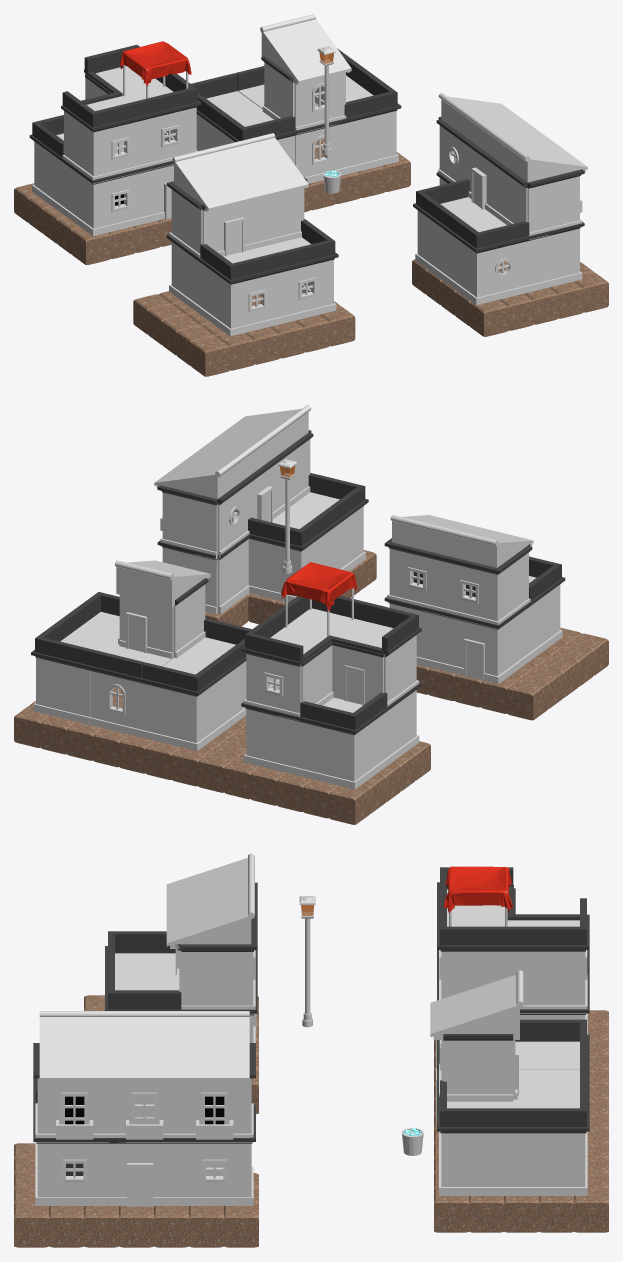
File: BridgeLevel.fbx
3 renders of one model, top to bottom at view 1: azimuth 30°, elevation 25°; view 2: azimuth 150°, elevation 25°; view 3: azimuth 270°, elevation 25°, orthographic. The views are drawn at different scales.
Visible parts, largest first — view 1: 12_UF_Corner.083, 12_UF_Corner.074, 12_UF_Corner.087, 12_UF_Corner.091, 14_R_Center.094, 14_R_Center.080, 14_R_Center.077, 12_UF_Corner.075, 12_UF_Corner.094, 12_UF_Corner.079, 12_UF_Corner.080, 12_UF_Corner.090 (+66 smaller); view 2: 12_UF_Corner.096, 12_UF_Corner.092, 12_UF_Corner.078, 12_UF_Corner.073, 12_UF_Corner.086, 12_UF_Corner.084, 12_UF_Corner.095, 12_UF_Corner.089, 12_UF_Corner.081, 12_UF_Corner.077, 12_UF_Corner.085, 02_GF_Wall.110 (+68 smaller); view 3: 12_UF_Corner.094, 12_UF_Corner.095, 12_UF_Corner.077, 12_UF_Corner.079, 12_UF_Corner.082, 14_R_Center.084, 14_R_Center.087, 14_R_Center.090, 02_GF_Wall.107, 12_UF_Corner.085, 02_GF_Wall.099, 02_GF_Wall.098 (+37 smaller).
Part boxes in pixels (left/top/right/bottom): 12_UF_Corner.083: left=444, top=226, right=530, bottom=305; 12_UF_Corner.074: left=198, top=258, right=283, bottom=336; 12_UF_Corner.087: left=61, top=158, right=146, bottom=236; 12_UF_Corner.091: left=61, top=105, right=146, bottom=183; 14_R_Center.094: left=260, top=14, right=351, bottom=83; 14_R_Center.080: left=172, top=145, right=258, bottom=210; 14_R_Center.077: left=223, top=133, right=308, bottom=198; 12_UF_Corner.075: left=282, top=252, right=338, bottom=323; 12_UF_Corner.094: left=345, top=103, right=401, bottom=174; 12_UF_Corner.079: left=528, top=222, right=584, bottom=292; 12_UF_Corner.080: left=527, top=169, right=584, bottom=239; 12_UF_Corner.090: left=145, top=100, right=201, bottom=170; 12_UF_Corner.096: left=141, top=668, right=231, bottom=750; 12_UF_Corner.092: left=298, top=707, right=388, bottom=789; 12_UF_Corner.078: left=442, top=546, right=532, bottom=629; 12_UF_Corner.073: left=442, top=601, right=532, bottom=683; 12_UF_Corner.086: left=301, top=635, right=383, bottom=705; 12_UF_Corner.084: left=248, top=523, right=335, bottom=602; 12_UF_Corner.095: left=31, top=650, right=90, bottom=724; 12_UF_Corner.089: left=241, top=687, right=300, bottom=775; 12_UF_Corner.081: left=157, top=485, right=217, bottom=559; 12_UF_Corner.077: left=384, top=538, right=443, bottom=615; 12_UF_Corner.085: left=241, top=646, right=301, bottom=720; 02_GF_Wall.110: left=88, top=665, right=142, bottom=737; 12_UF_Corner.094: left=437, top=1096, right=513, bottom=1195; 12_UF_Corner.095: left=513, top=1096, right=589, bottom=1195; 12_UF_Corner.077: left=181, top=914, right=257, bottom=1014; 12_UF_Corner.079: left=33, top=1106, right=109, bottom=1205; 12_UF_Corner.082: left=179, top=1106, right=255, bottom=1205; 14_R_Center.084: left=39, top=1011, right=109, bottom=1080; 14_R_Center.087: left=109, top=1011, right=179, bottom=1080; 14_R_Center.090: left=179, top=1011, right=249, bottom=1080; 02_GF_Wall.107: left=443, top=1034, right=513, bottom=1101; 12_UF_Corner.085: left=513, top=914, right=589, bottom=1013; 02_GF_Wall.099: left=179, top=1081, right=249, bottom=1142; 02_GF_Wall.098: left=109, top=1081, right=179, bottom=1142.
Bounding box in the file's own units: 1500 × 804 × 1700.
14 materials, 1 textured.
